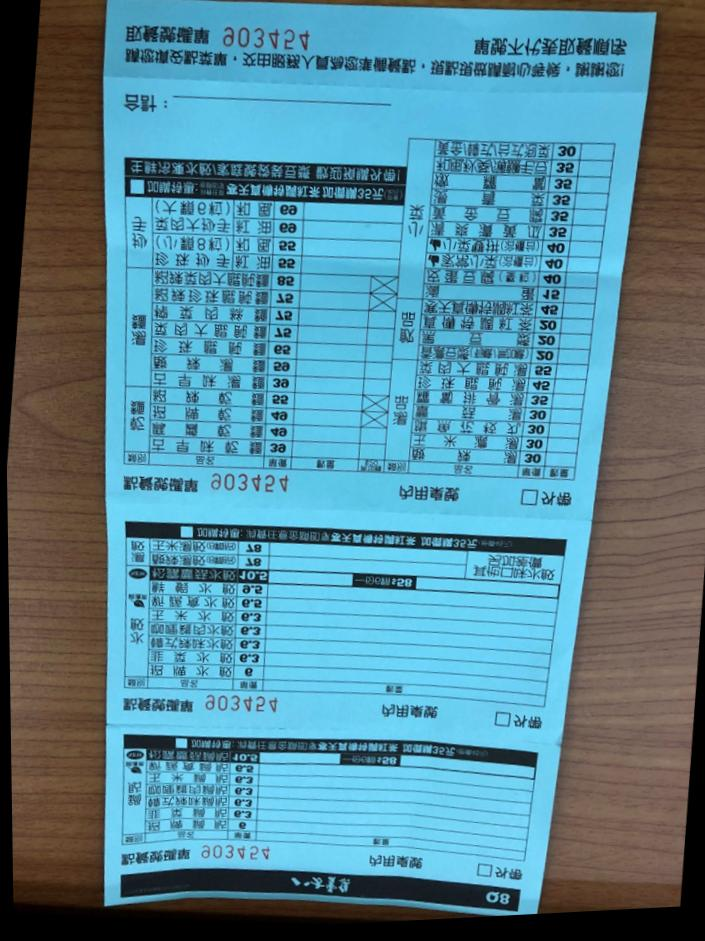paper: (40, 0, 672, 939)
